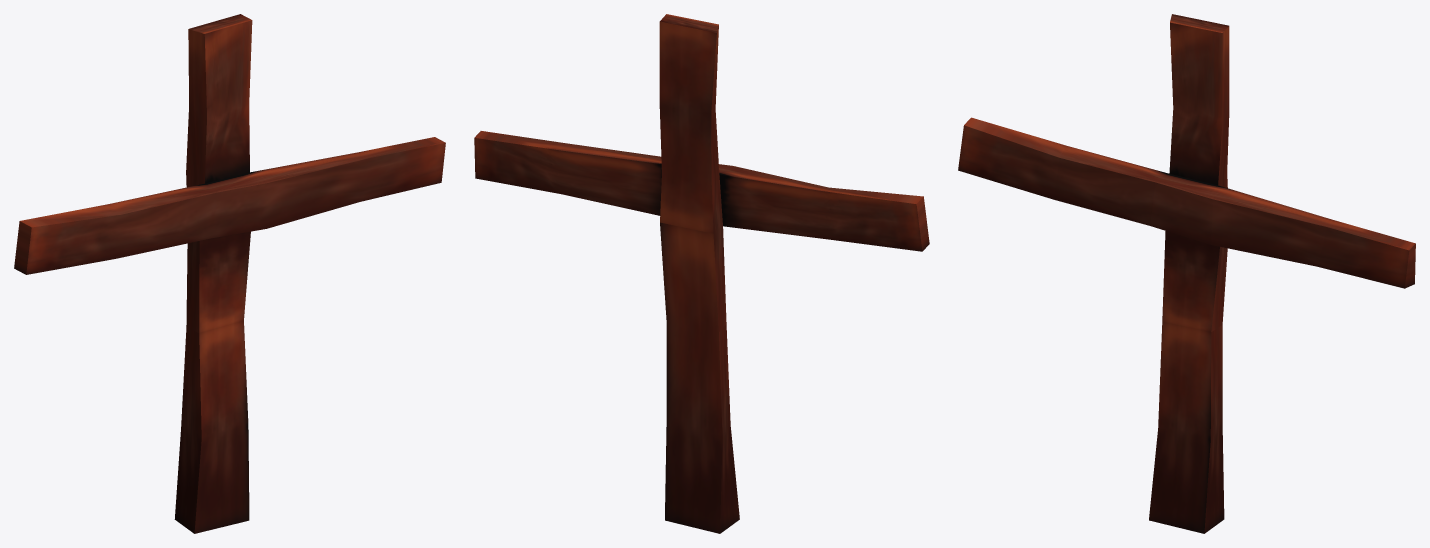
The model's file is grave_wood_cross.DAE.
3 views of the same model, side by side, from view 1: azimuth 30°, elevation 25°; view 2: azimuth 150°, elevation 25°; view 3: azimuth 330°, elevation 25° (orthographic).
Visible parts, largest first — view 1: Box03; view 2: Box03; view 3: Box03.
Part boxes in pixels (x1,y1,x2,y2): Box03: (14, 14, 445, 533); Box03: (474, 14, 929, 533); Box03: (958, 14, 1415, 533).
Bounding box in the file's own units: 1.21 × 1.31 × 0.1452.
